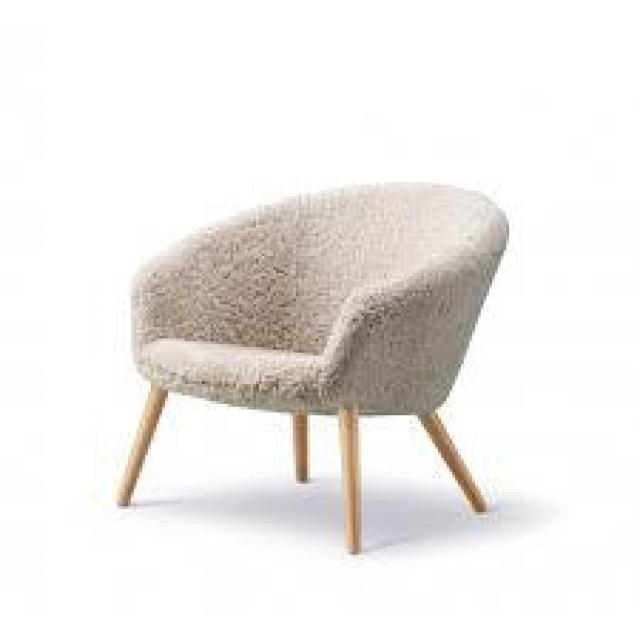chair: (74, 130, 535, 568)
